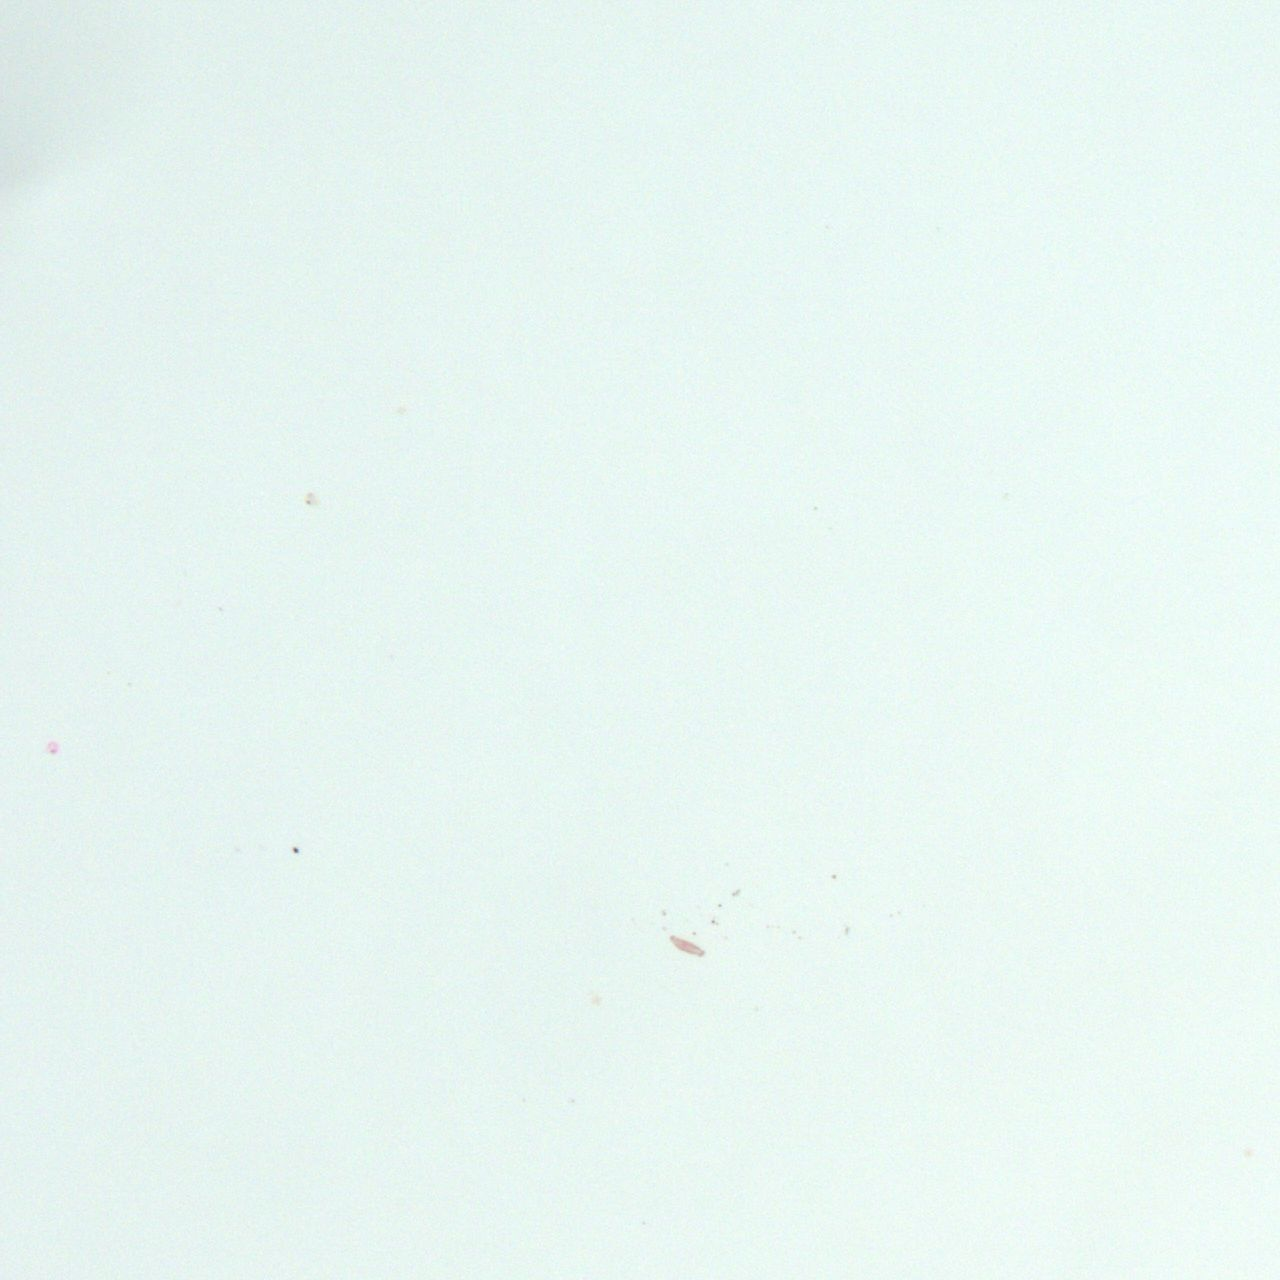dust: (667, 933, 707, 959), (730, 887, 742, 898), (292, 846, 301, 855), (843, 926, 847, 937), (888, 911, 894, 918), (660, 908, 666, 915), (717, 903, 723, 908), (830, 873, 836, 879), (710, 918, 715, 925), (692, 931, 697, 935), (896, 907, 899, 914), (305, 499, 312, 503), (790, 928, 795, 933), (797, 935, 801, 938)
